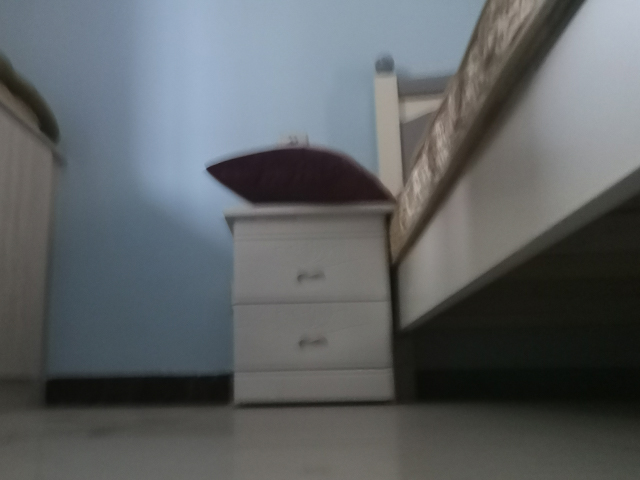bed: (372, 1, 640, 402)
cabinet: (222, 198, 401, 411)
